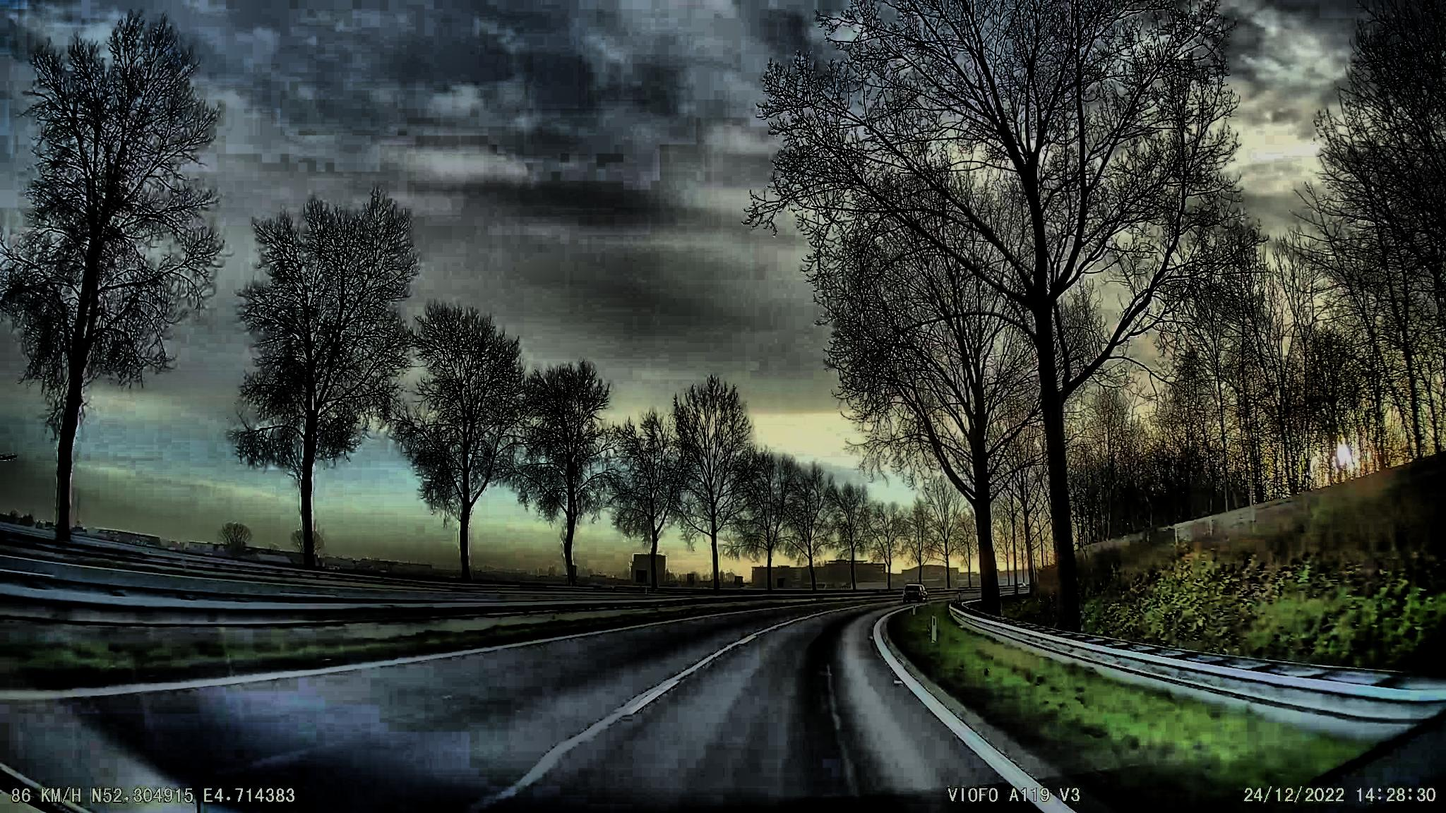Roads: (0, 606, 1082, 813)
